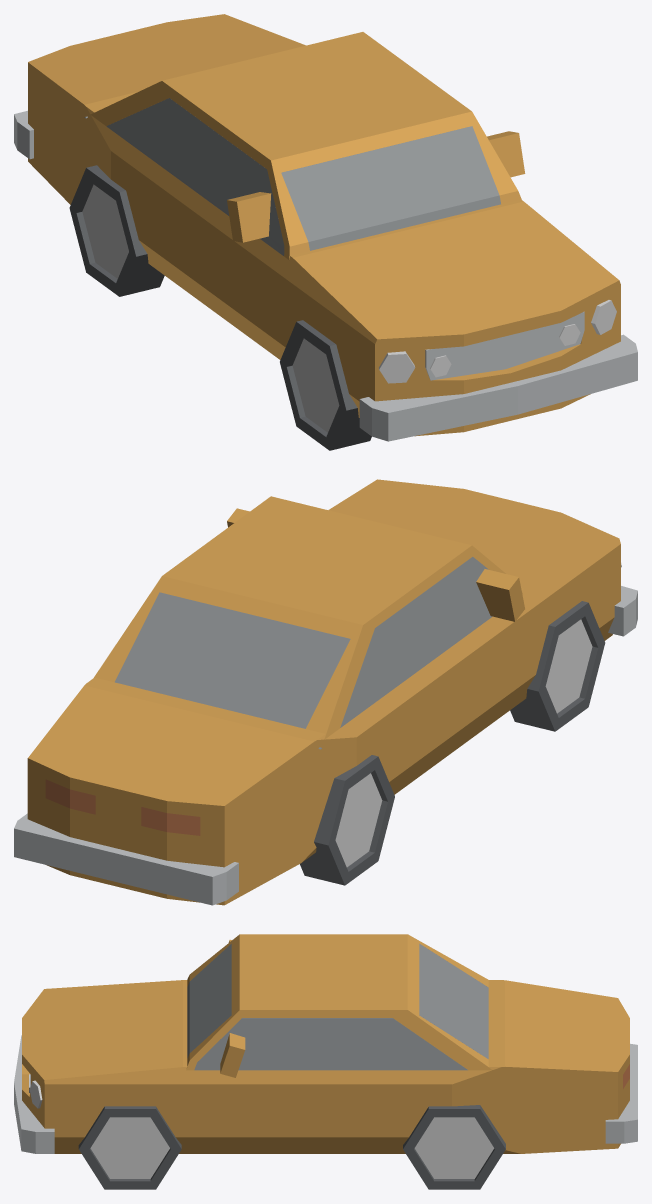
The model's file is car.glb.
3 renders of one model, top to bottom at view 1: azimuth 30°, elevation 25°; view 2: azimuth 150°, elevation 25°; view 3: azimuth 270°, elevation 25°, orthographic. The views are drawn at different scales.
Parts seen in each view (by area): view 1: Mesh_Mesh_head_geo.001_lambert2SG.001; view 2: Mesh_Mesh_head_geo.001_lambert2SG.001; view 3: Mesh_Mesh_head_geo.001_lambert2SG.001.
Part boxes in pixels (x1=…): Mesh_Mesh_head_geo.001_lambert2SG.001: x1=14, y1=14, x2=637, y2=450; Mesh_Mesh_head_geo.001_lambert2SG.001: x1=14, y1=479, x2=637, y2=905; Mesh_Mesh_head_geo.001_lambert2SG.001: x1=14, y1=934, x2=637, y2=1189.
Size of the model in its own units: 31 by 23 by 77.
